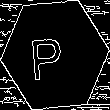P_N: (36, 28, 74, 82)
